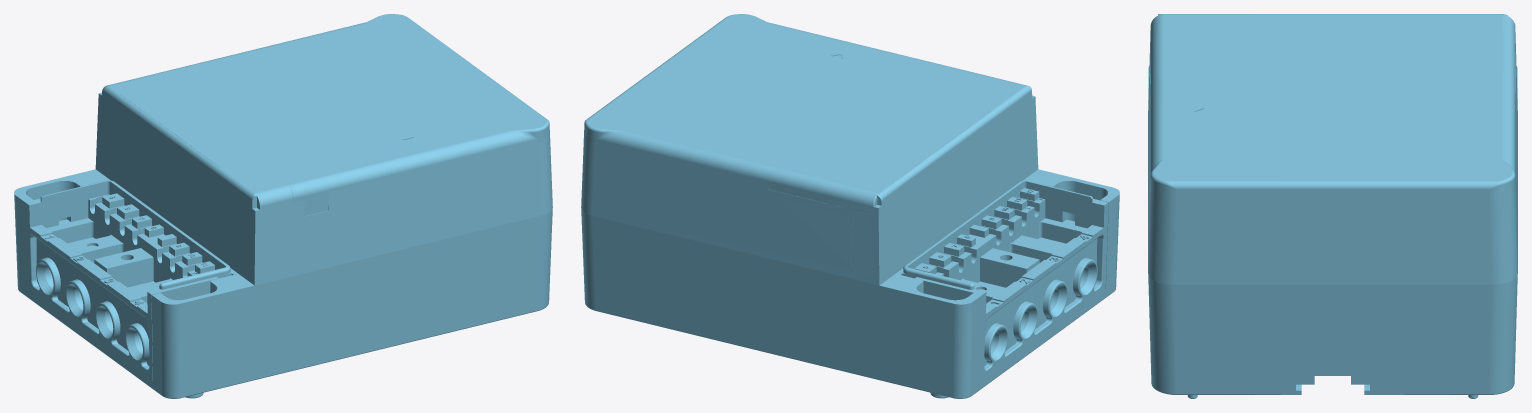
File: singlePhase.glb
3 renders of one model, left to right at view 1: azimuth 30°, elevation 25°; view 2: azimuth 150°, elevation 25°; view 3: azimuth 270°, elevation 25°, orthographic. The views are drawn at different scales.
Visible parts, largest first — view 1: singlePhase; view 2: singlePhase; view 3: singlePhase.
Part boxes in pixels (box(x1,y1,x2,y2)): singlePhase: box(14, 14, 552, 398); singlePhase: box(581, 14, 1119, 398); singlePhase: box(1148, 14, 1517, 398).
Size of the model in its own units: 0.16 by 0.073 by 0.112.
